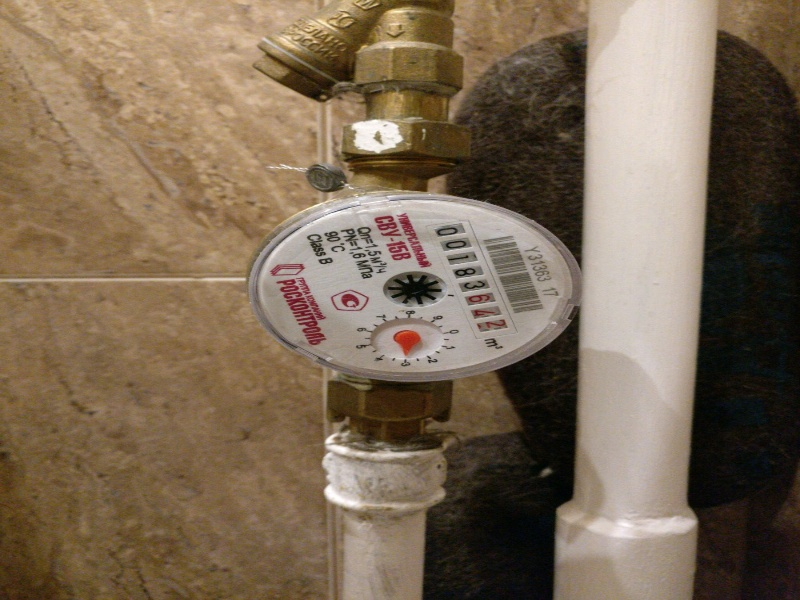meter: (434, 209, 507, 335)
